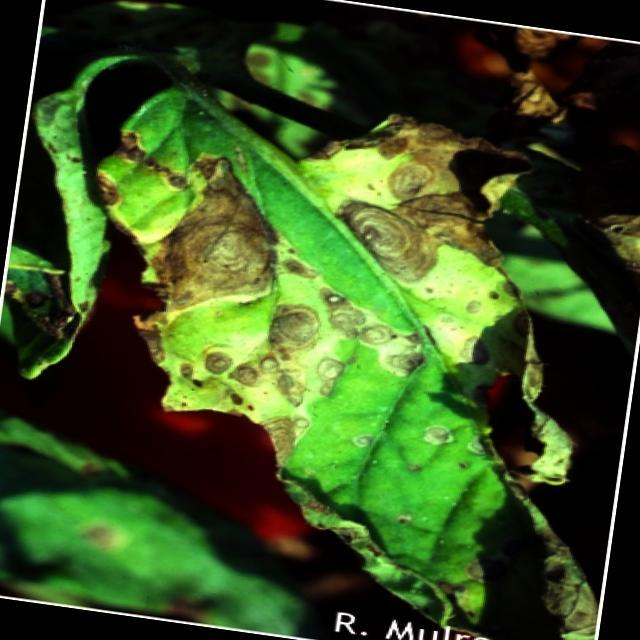Tomato Early blight leaf: (30, 70, 640, 640)
